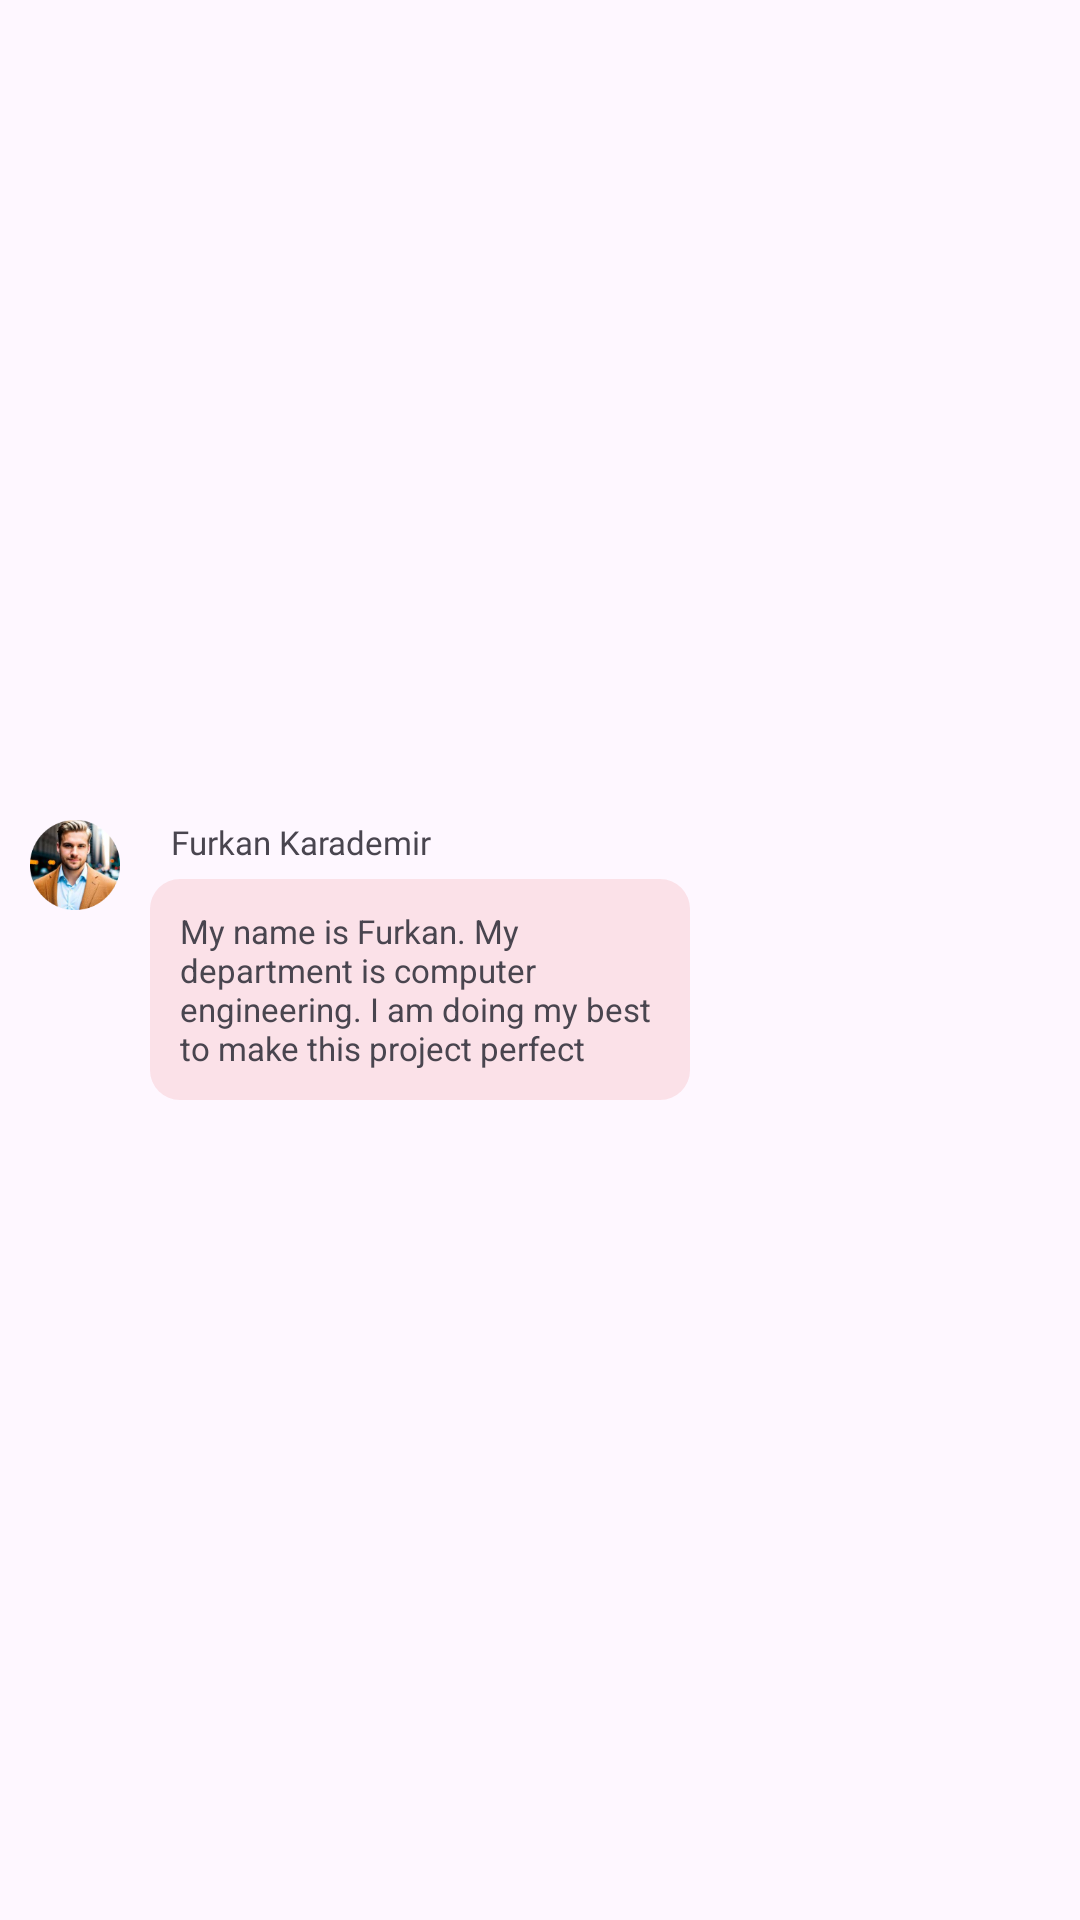

Named icons in this screenshot (1080x1920) and their centers, (x=x, y=y):
profile photo: (x=75, y=865)
